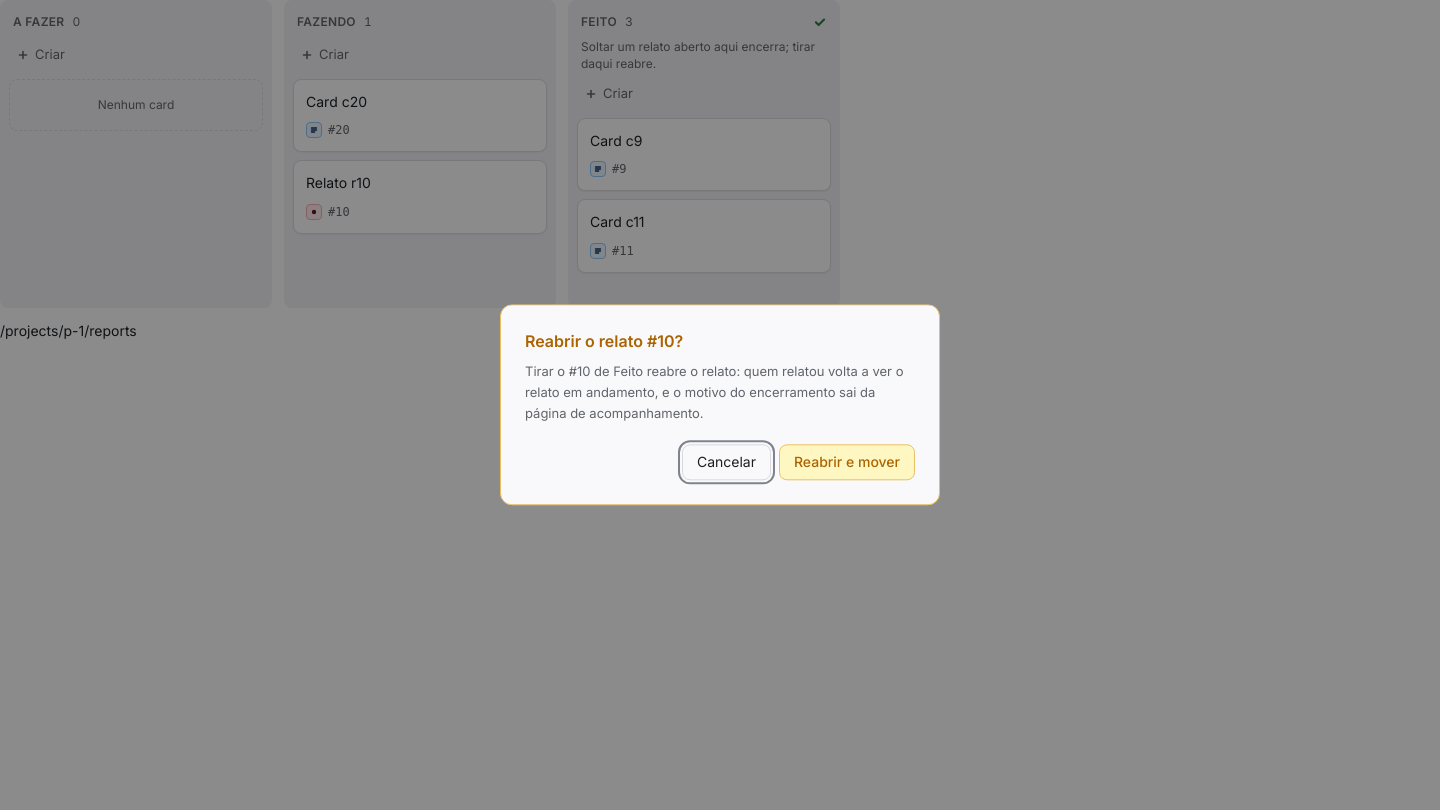
tirar um relato encerrado da coluna que encerra (Q-02) › "Reabrir e mover" grava uma vez so, e o card fica onde foi solto
Click the button "Reabrir e mover". click: {"x": 847, "y": 463}
box: x1=779 y1=445 x2=915 y2=481
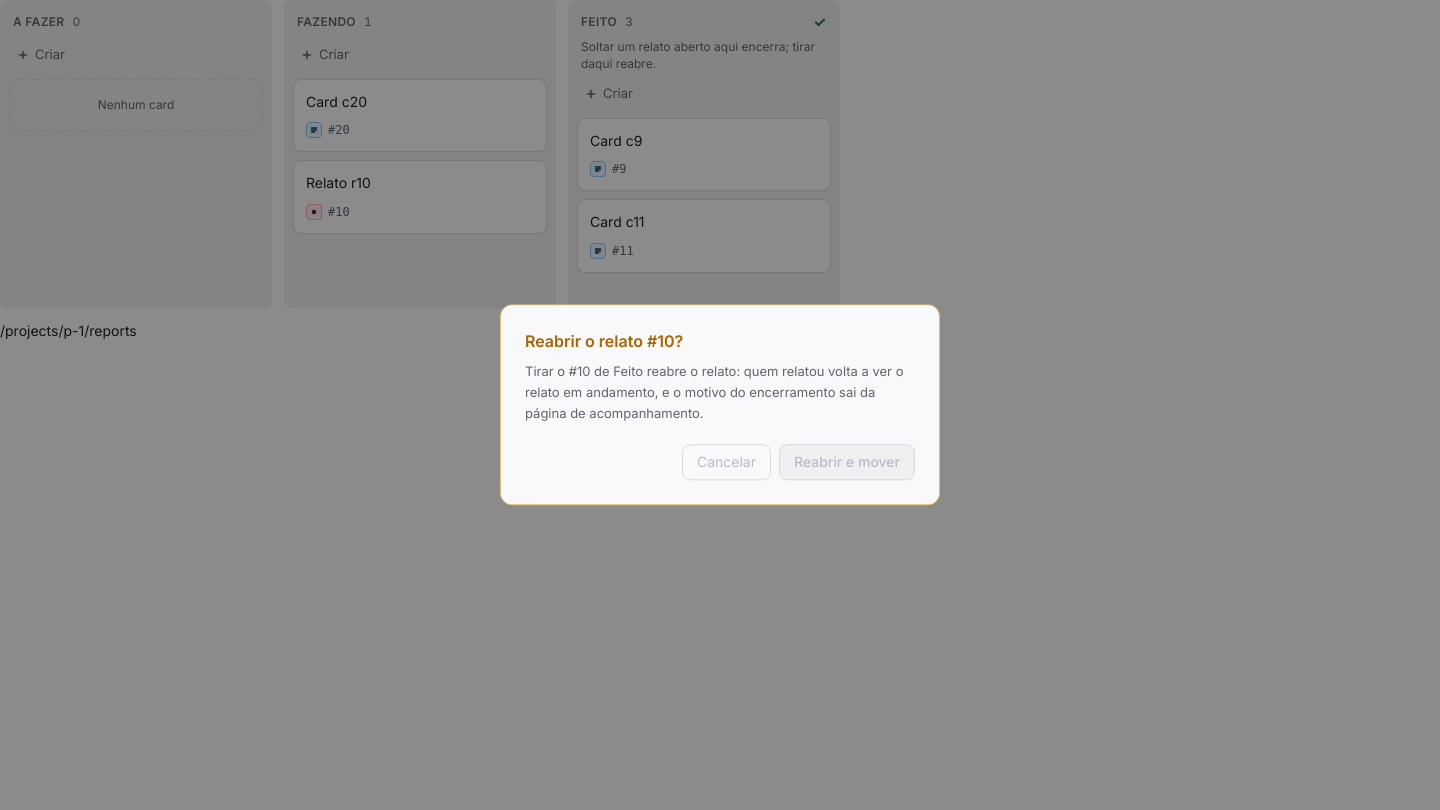
// O segundo clique, com a gravacao no ar, nao grava de novo.
Click the button "Reabrir e mover". click: {"x": 847, "y": 463}
box: x1=779 y1=445 x2=915 y2=481
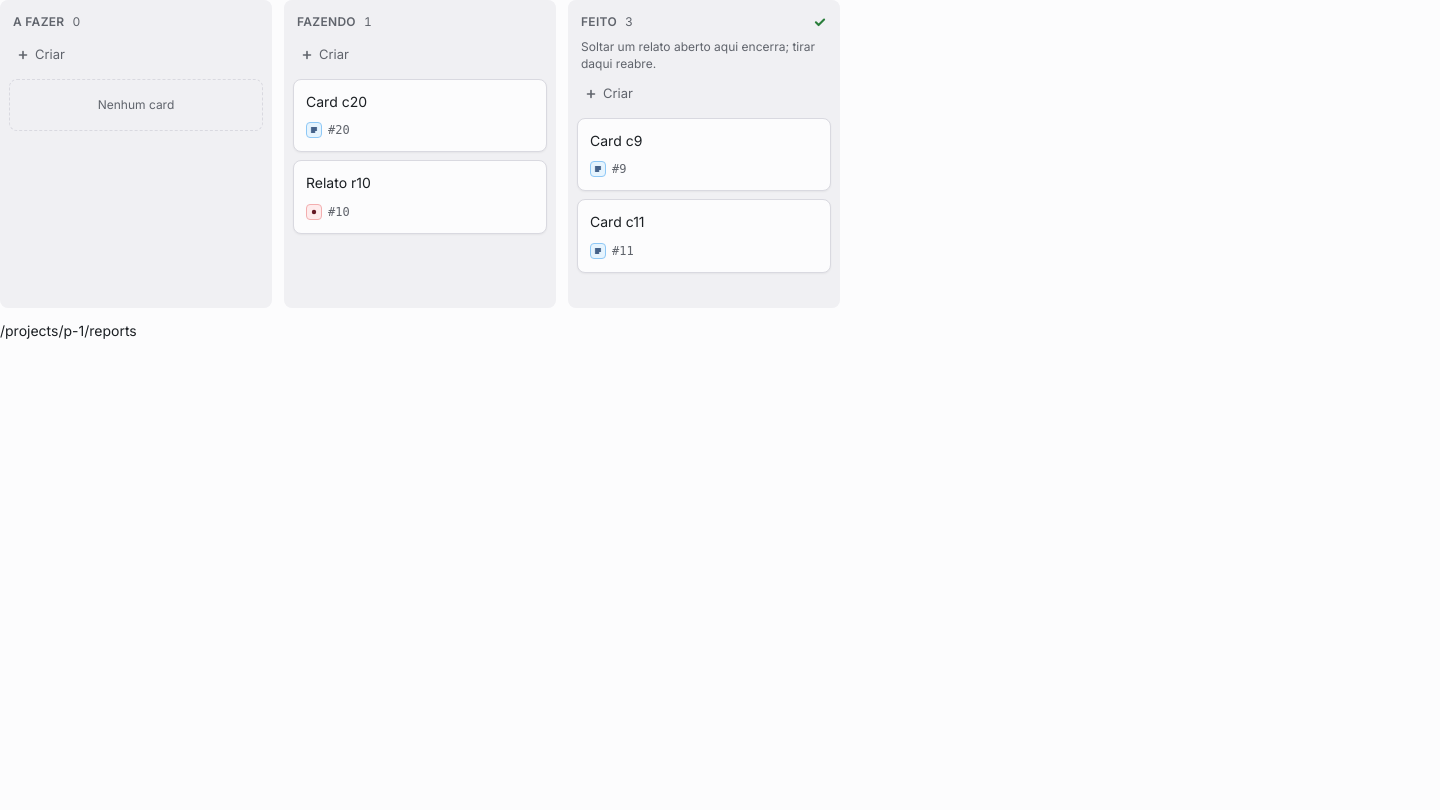
Expected: the dialog is gone
